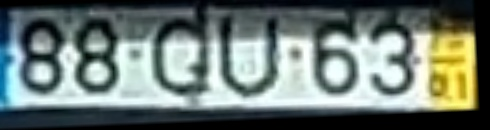3: (367, 17, 418, 98)
6: (311, 16, 362, 100)
8: (71, 15, 123, 98), (17, 17, 68, 98)
Q: (150, 14, 215, 99)
U: (218, 13, 282, 101)
